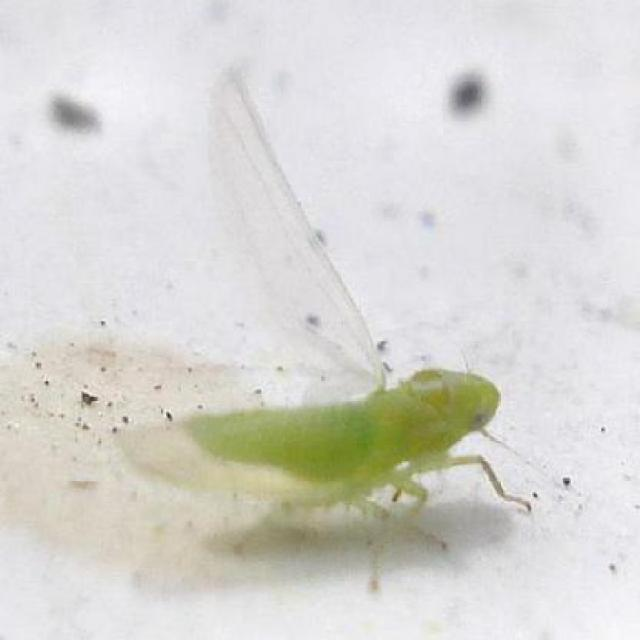green-leafhopper: (125, 368, 512, 560)
